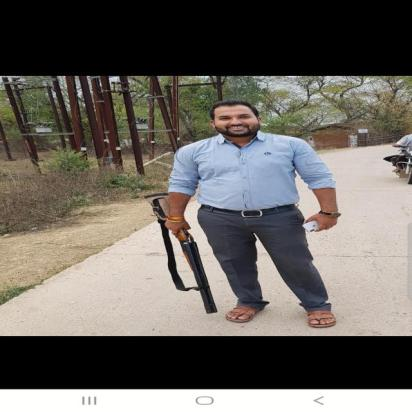Gun: (142, 192, 220, 315)
